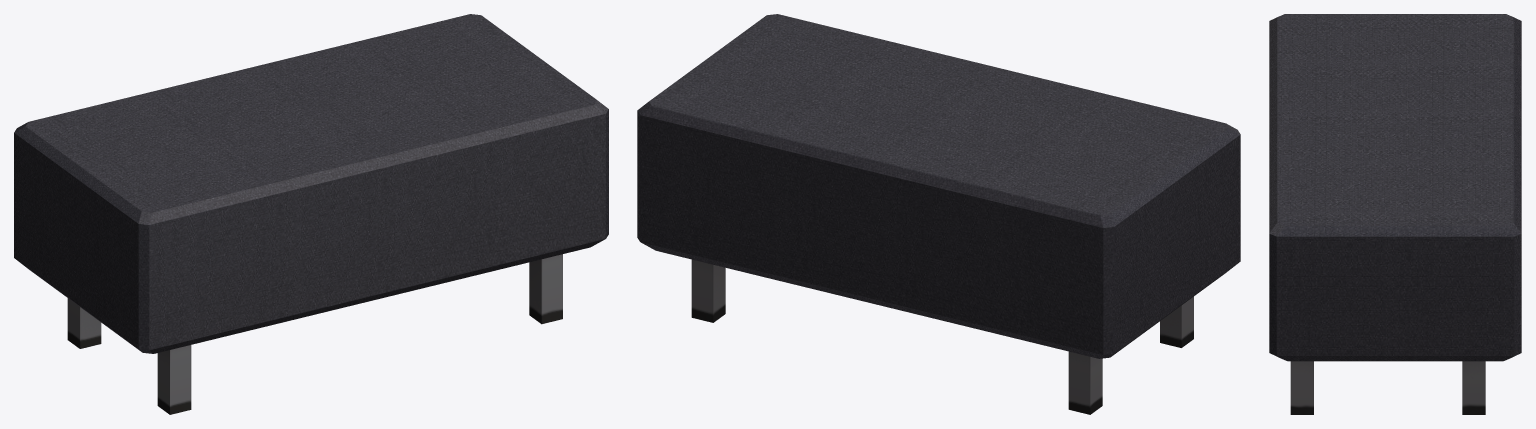
File: SM_Lounge_Sofa_NB.FBX
3 views of the same model, side by side, from view 1: azimuth 30°, elevation 25°; view 2: azimuth 150°, elevation 25°; view 3: azimuth 270°, elevation 25° (orthographic). The views are drawn at different scales.
Parts seen in each view (by area): view 1: SM_Lounge_Sofa_NB; view 2: SM_Lounge_Sofa_NB; view 3: SM_Lounge_Sofa_NB.
Boxes of the visible parts, box(x1,y1,x2,y2) form: SM_Lounge_Sofa_NB: box(14, 14, 608, 414); SM_Lounge_Sofa_NB: box(637, 14, 1240, 414); SM_Lounge_Sofa_NB: box(1269, 14, 1521, 414).
Size of the model in its own units: 133 by 64.67 by 57.51.
